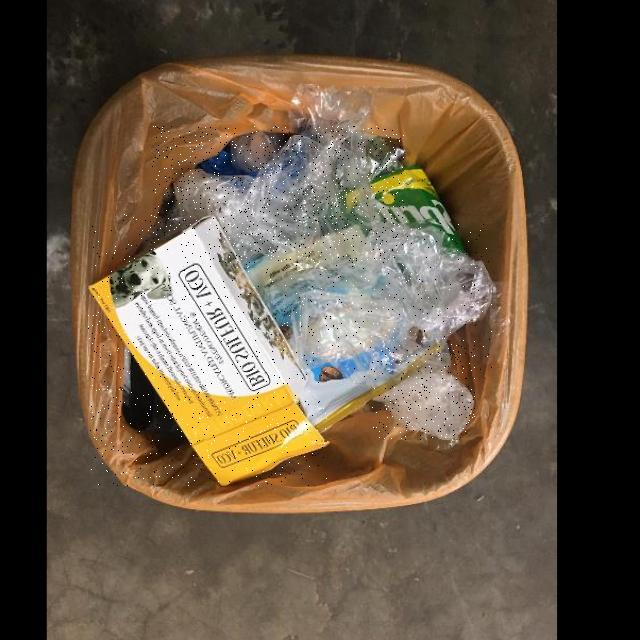paper: (89, 214, 327, 485)
plastic: (267, 221, 494, 377), (151, 126, 404, 263), (372, 343, 475, 440)
